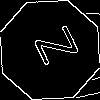Z: (25, 25, 79, 72)
